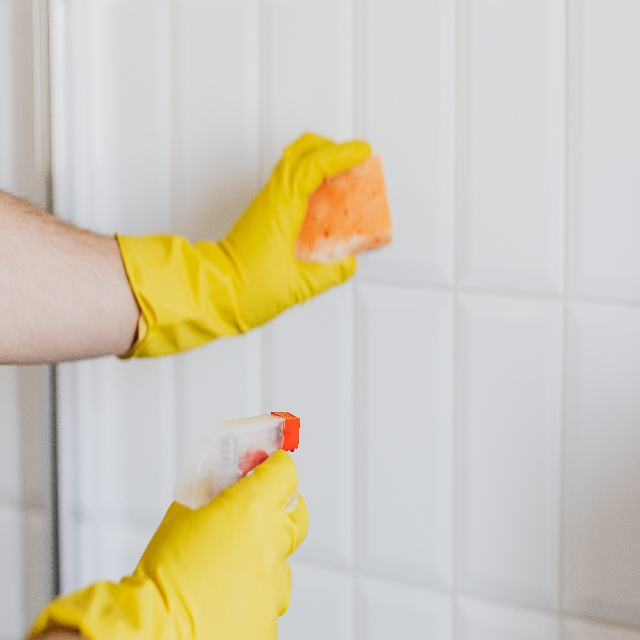Guantes: (116, 130, 370, 356), (38, 448, 308, 640)
